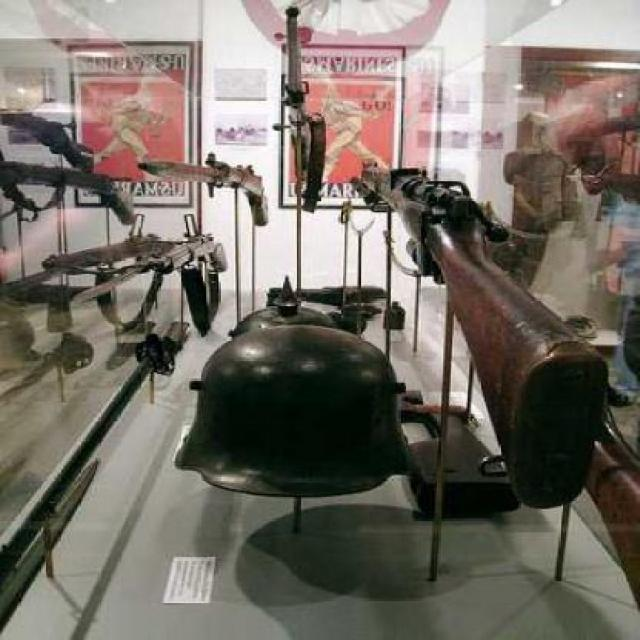weapon: (352, 147, 596, 514), (278, 4, 328, 211), (142, 152, 270, 223), (46, 236, 228, 285)
